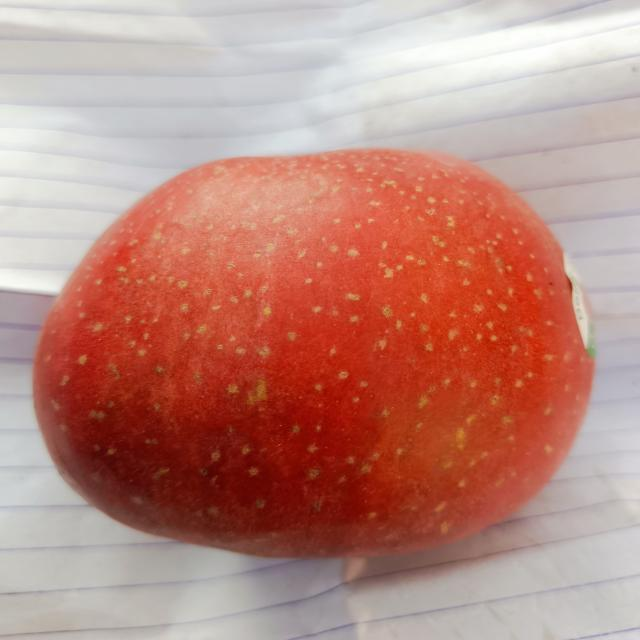Fresh Apple: (31, 160, 596, 552)
